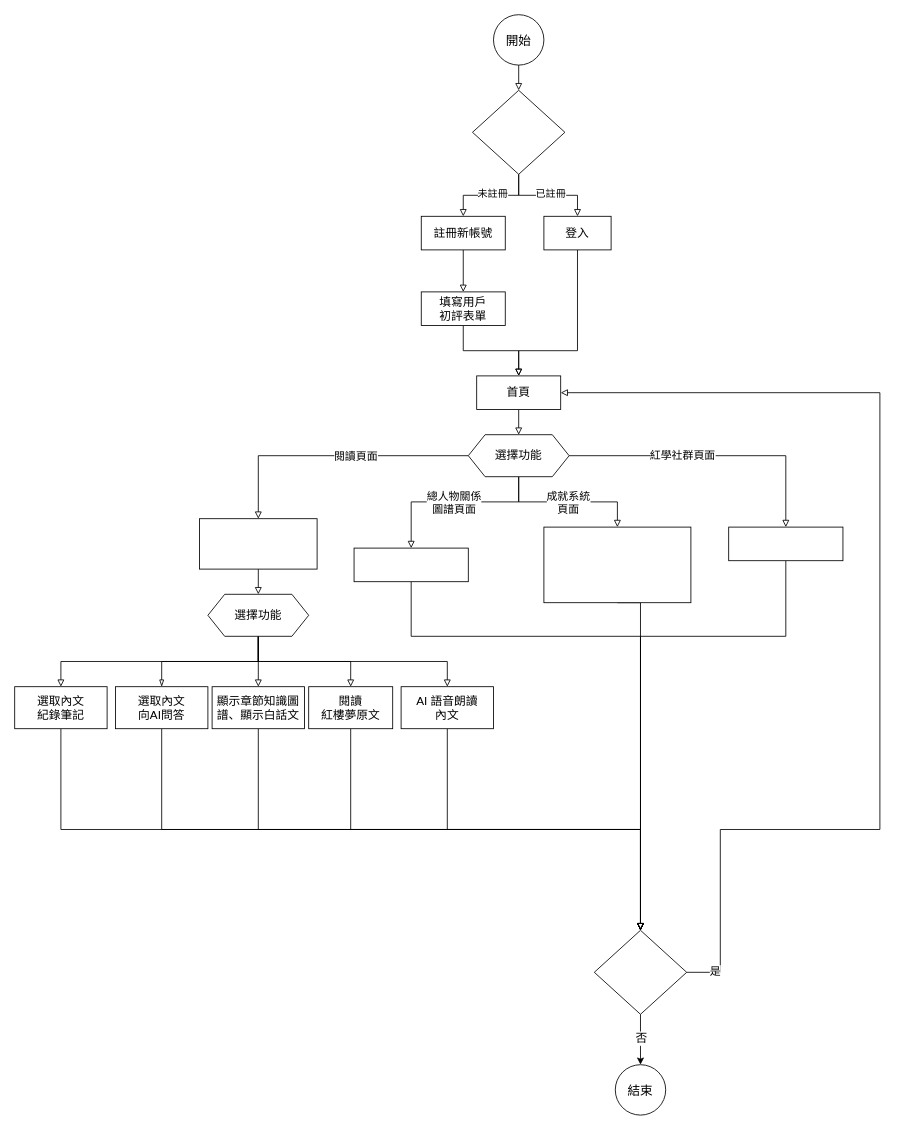
Some shapes in this 901 by 1130 pixel diagram are drawn without their labels. The centre of each missing label's shape, as x and y in pixels:
查看總人物關係: (x=410, y=564)
用戶 是否註冊: (x=518, y=131)
發文參與討論分享: (x=785, y=543)
繼續使用: (x=640, y=971)
選擇學習挑戰賽、 設定每日學習目標時間、 查看達成與未達成就: (x=617, y=564)
閱讀原文 與名家解讀內容: (x=258, y=543)
